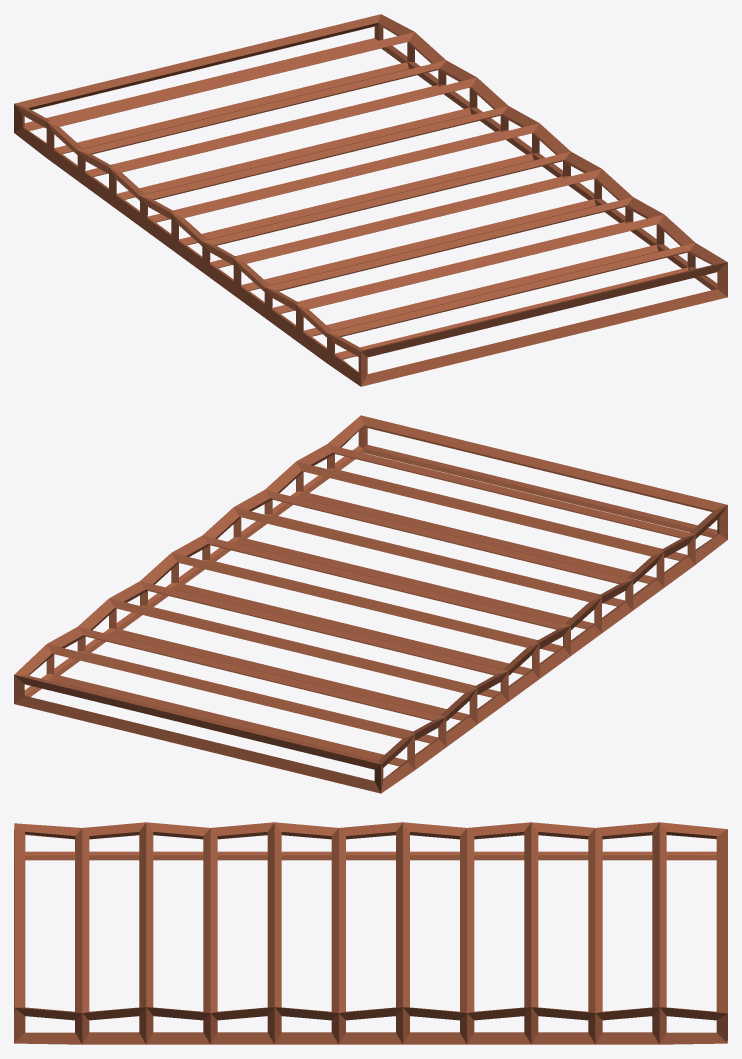
Rendered from Level seperation block.fbx.
3 renders of one model, top to bottom at view 1: azimuth 30°, elevation 25°; view 2: azimuth 150°, elevation 25°; view 3: azimuth 270°, elevation 25°, orthographic. The views are drawn at different scales.
Visible parts, largest first — view 1: clear platform roof 1; view 2: clear platform roof 1; view 3: clear platform roof 1.
Boxes of the visible parts, <box> form: clear platform roof 1: <box>14,14,727,386</box>; clear platform roof 1: <box>14,415,727,793</box>; clear platform roof 1: <box>14,822,727,1044</box>.
Bounding box in the file's own units: 673 × 63.55 × 1097.
